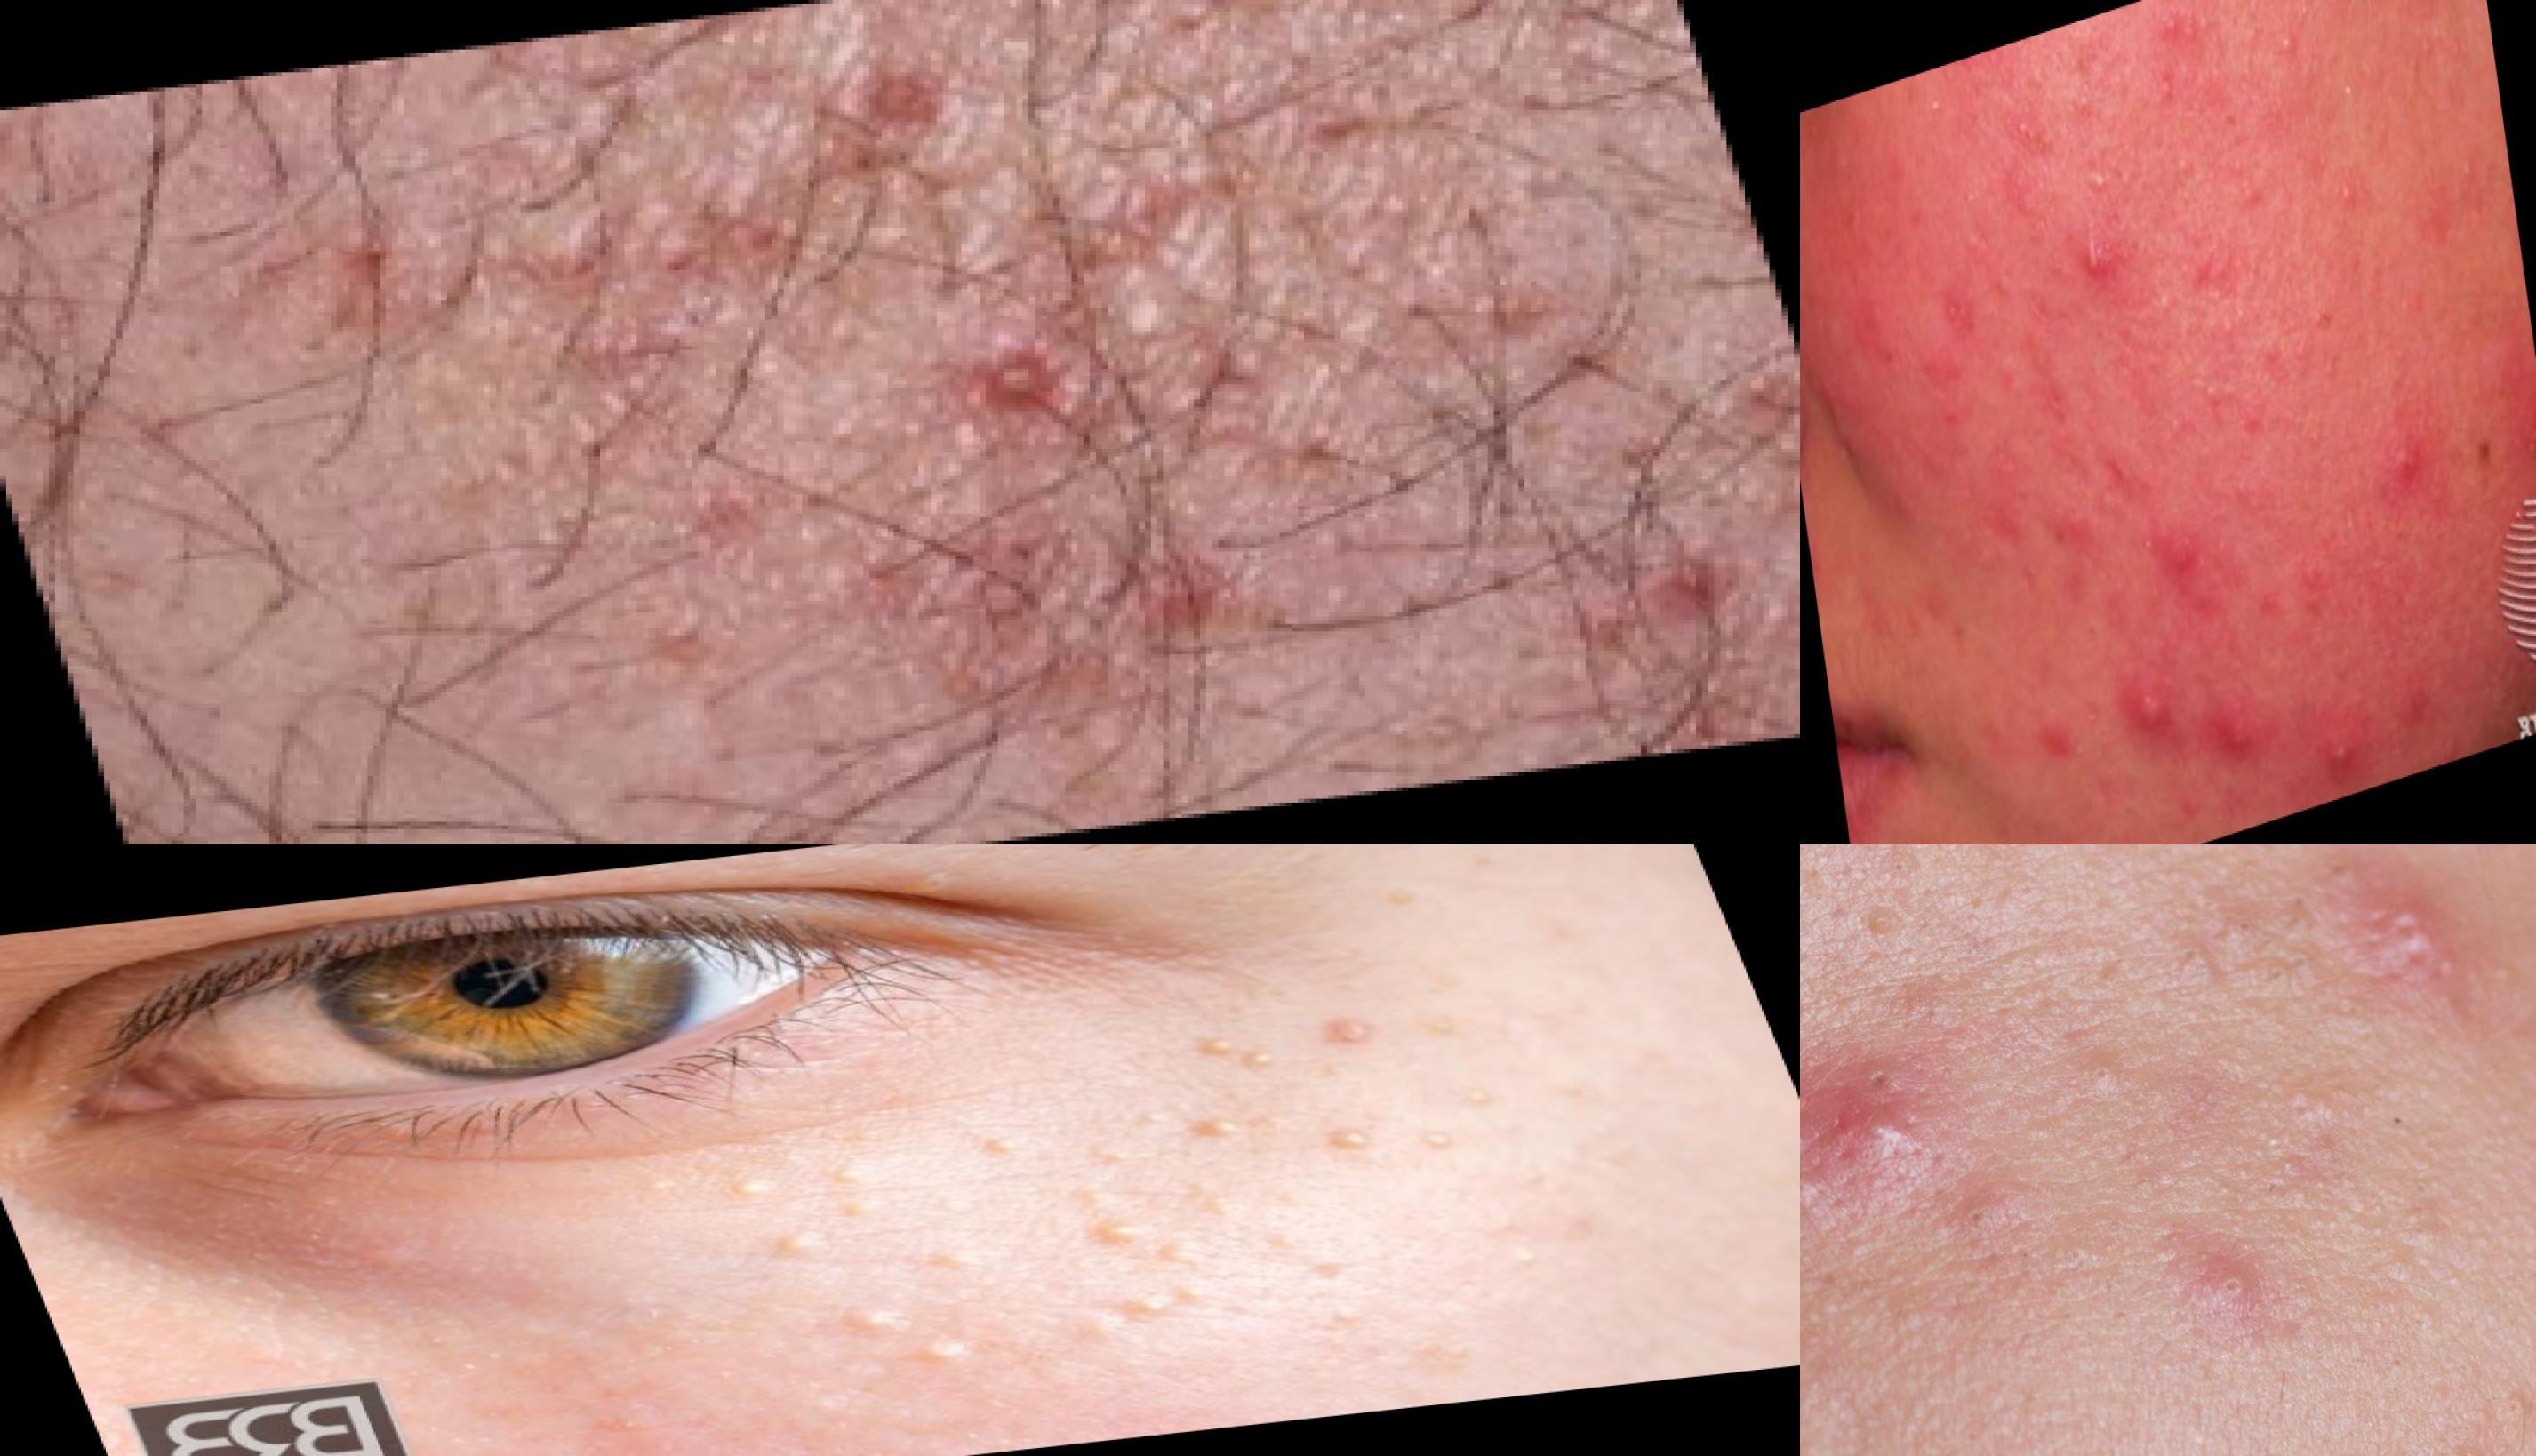folliculitis: (951, 312, 1103, 409)
milium: (1305, 1064, 1538, 1177), (1059, 1275, 1266, 1350), (704, 1158, 899, 1231), (824, 1294, 974, 1374), (1076, 1210, 1219, 1280), (1118, 1090, 1263, 1151), (1169, 1014, 1301, 1078), (749, 1224, 845, 1268), (907, 1244, 996, 1280), (970, 1127, 1035, 1162)
papular: (1801, 1014, 1998, 1235), (2330, 874, 2489, 1010), (1620, 540, 1761, 630), (2106, 669, 2181, 759), (2205, 683, 2268, 782), (2013, 698, 2080, 787), (2376, 425, 2431, 526), (2153, 503, 2202, 583)
whitehead: (2148, 1202, 2315, 1372), (1831, 853, 1940, 979), (2304, 721, 2371, 794), (1900, 89, 1959, 155), (2261, 7, 2306, 82), (2320, 56, 2367, 120), (2449, 139, 2498, 200), (2071, 232, 2111, 300), (2087, 158, 2135, 214), (2148, 71, 2184, 134), (2332, 162, 2371, 221)
